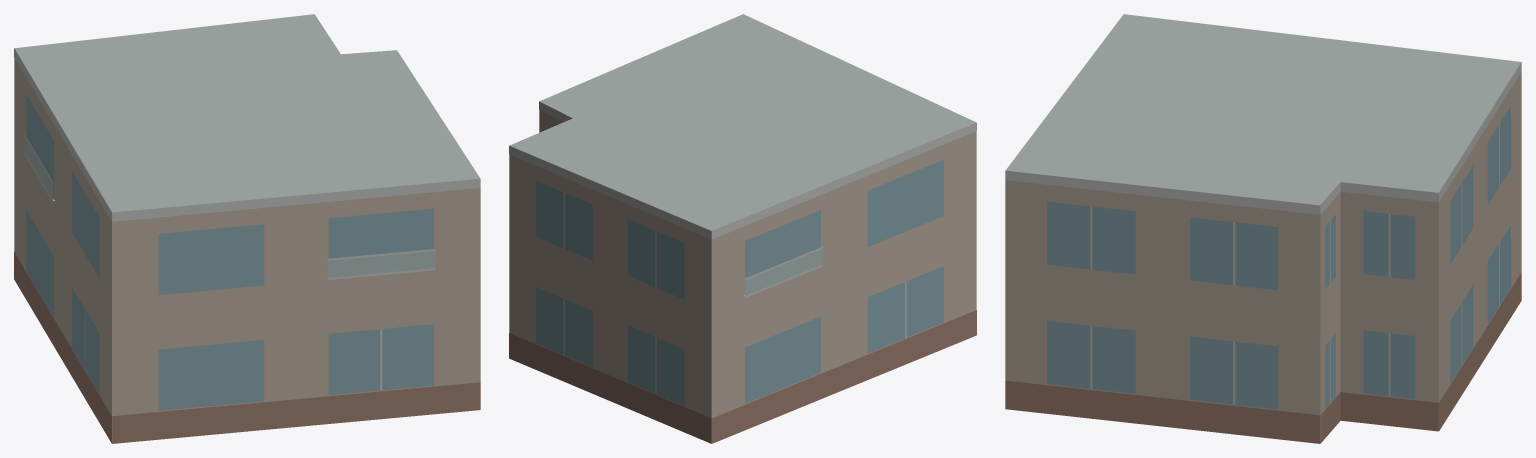
Rendered from survey-upis-32483590.glb.
3 views of the same model, side by side, from view 1: azimuth 30°, elevation 25°; view 2: azimuth 150°, elevation 25°; view 3: azimuth 270°, elevation 25° (orthographic). The views are drawn at different scales.
Parts seen in each view (by area): view 1: survey-upis-32483590.tmp; view 2: survey-upis-32483590.tmp; view 3: survey-upis-32483590.tmp.
Boxes of the visible parts, x1,y1,x2,y2 form: survey-upis-32483590.tmp: (14,14,480,443); survey-upis-32483590.tmp: (509,14,976,443); survey-upis-32483590.tmp: (1005,14,1521,443).
Size of the model in its own units: 10.51 by 6.1 by 11.98.
